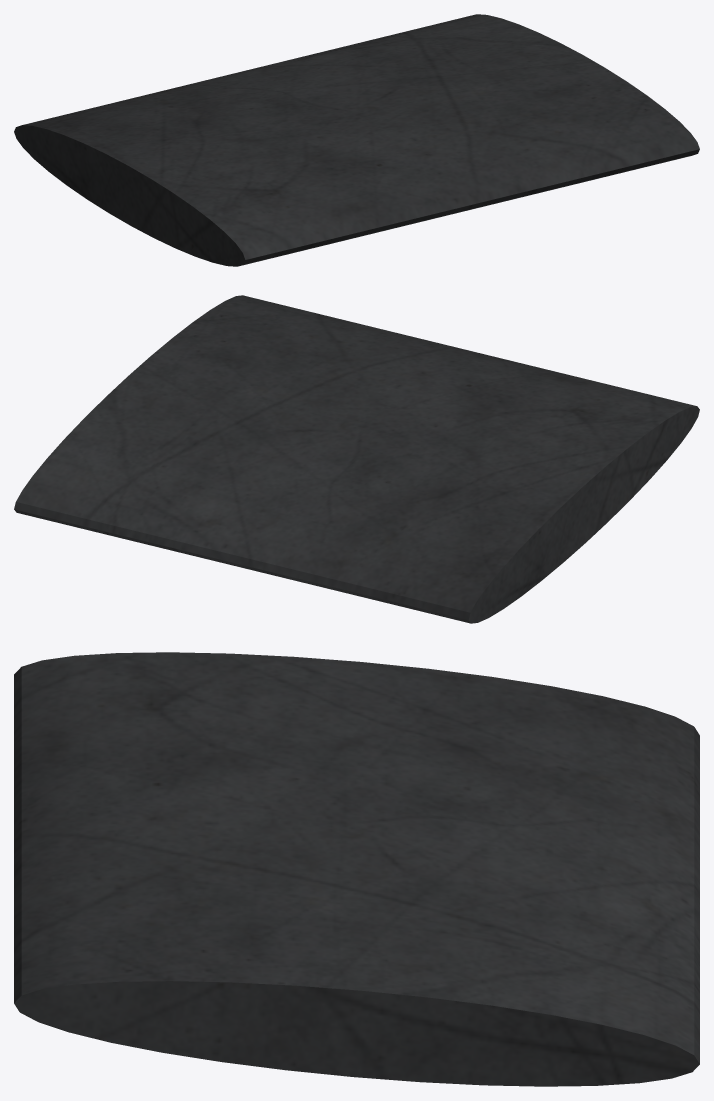
The model's file is frontLeftFin.glb.
3 views of the same model, one above another, from view 1: azimuth 30°, elevation 25°; view 2: azimuth 150°, elevation 25°; view 3: azimuth 270°, elevation 25° (orthographic). The views are drawn at different scales.
Visible parts, largest first — view 1: Cylinder.007_Material.001_0; view 2: Cylinder.007_Material.001_0; view 3: Cylinder.007_Material.001_0.
Part boxes in pixels (<box>): Cylinder.007_Material.001_0: <box>14,14,699,266</box>; Cylinder.007_Material.001_0: <box>14,295,699,623</box>; Cylinder.007_Material.001_0: <box>14,652,699,1086</box>.
Bounding box in the file's own units: 87.48 × 13.1 × 77.13.
Materials: 1 (1 with a texture image).
